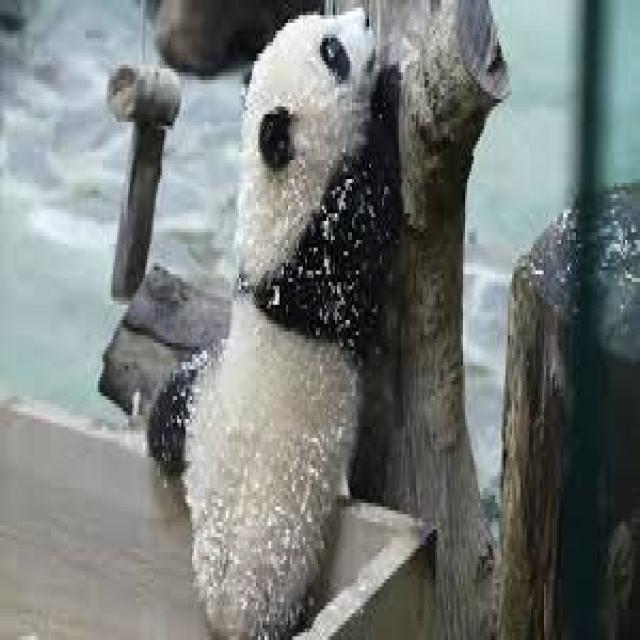Panda: (142, 2, 390, 640)
